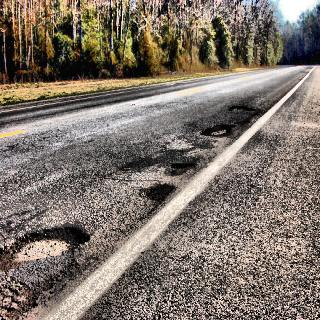pothole: (0, 216, 92, 306), (142, 177, 177, 203), (201, 120, 237, 143), (169, 155, 201, 175), (228, 104, 255, 114)
